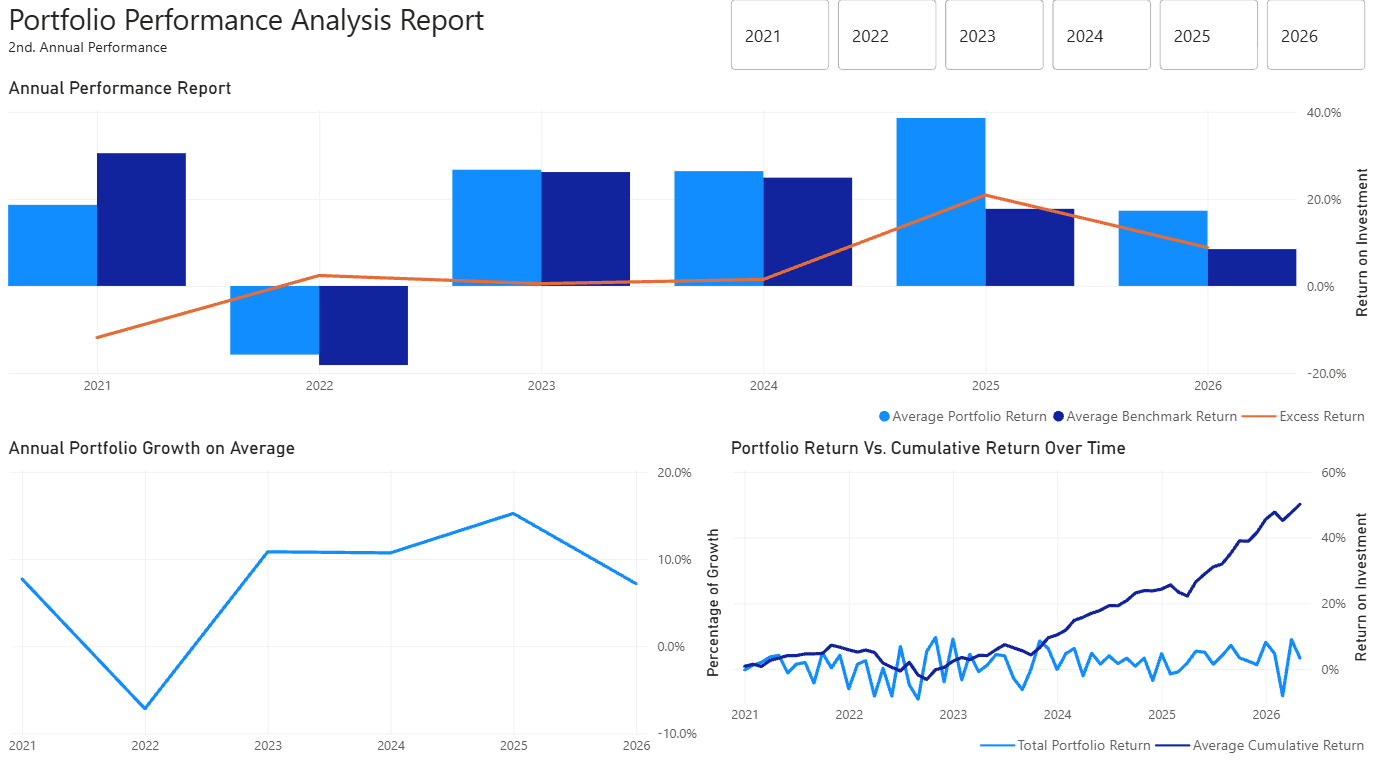

Layout of this report page (visuals, bound fields, positions):
{"tool":"powerbi","page":{"name":"Page 2","canvas":[1280,720],"ordinal":1},"visuals":[{"type":"textbox","box":[0,0,674.4,76.7],"z":0},{"type":"advancedSlicerVisual","fields":{"Values":["fact_portfolio_returns.Year"]},"box":[674.2,0,605.8,76.7],"z":1000},{"type":"lineClusteredColumnComboChart","title":"Annual Performance Report","fields":{"Category":["analysis_annual_returns.year"],"Y":["Avg(analysis_annual_returns.portfolio_annual_return)","Avg(analysis_annual_returns.benchmark_annual_return)"],"Y2":["Avg(analysis_annual_returns.excess_annual_return)"]},"box":[0,76.7,1280.2,336],"z":2000},{"type":"lineChart","title":"Portfolio Return Vs. Cumulative Return Over Time","fields":{"Y":["Sum(analysis_cumulative_return.Portfolio_Return)","Avg(analysis_cumulative_return.cumulative_return)"],"Category":["fact_portfolio_returns.Date.Variation.Date Hierarchy.Year","fact_portfolio_returns.Date.Variation.Date Hierarchy.Quarter","fact_portfolio_returns.Date.Variation.Date Hierarchy.Month","fact_portfolio_returns.Date.Variation.Date Hierarchy.Day"]},"box":[674.4,412.8,605.8,307],"z":3000},{"type":"lineChart","title":"Annual Portfolio Growth on Average","fields":{"Category":["analysis_portfolio_growth.year"],"Y":["Avg(analysis_portfolio_growth.annual_return)"]},"box":[0,412.8,674.4,307],"z":4000}]}

Visuals, with their boxes in screenshot pixels (x1, y1, x2, y2), scaled from the page's 1280x720 canvas onto the 1384x763 screenshot:
textbox: box=[0, 0, 729, 81]
advancedSlicerVisual - fact_portfolio_returns.Year: box=[729, 0, 1383, 81]
"Annual Performance Report" lineClusteredColumnComboChart: box=[0, 81, 1383, 437]
"Portfolio Return Vs. Cumulative Return Over Time" lineChart: box=[729, 437, 1383, 762]
"Annual Portfolio Growth on Average" lineChart: box=[0, 437, 729, 762]
